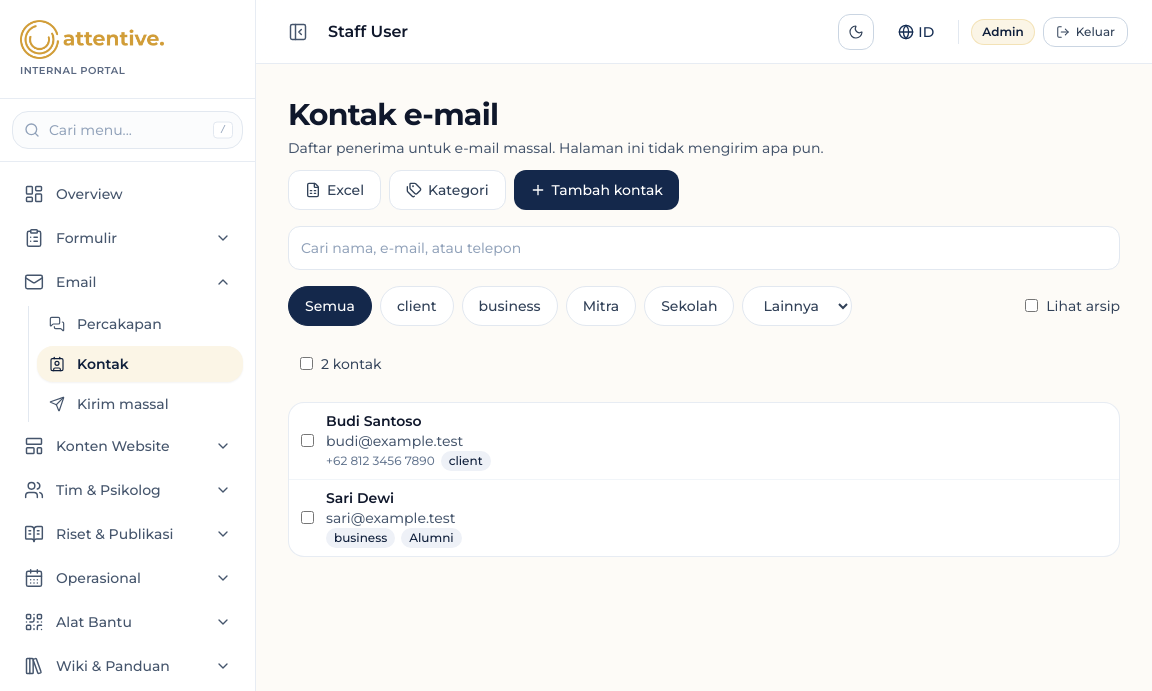
Test: e-mail contacts page › filters by chip, by the "more" list and by search
Click the button "business" at (510, 306), box left=462, top=286, right=558, bottom=326
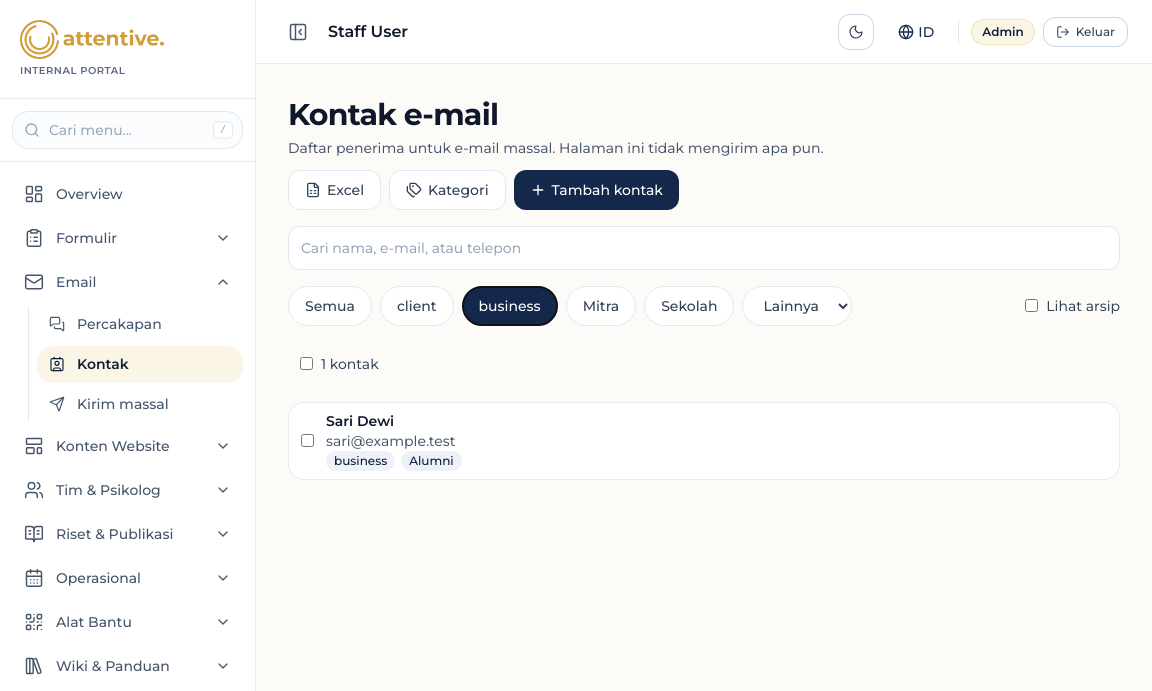
Expected: the text "Sari Dewi" is shown, left=326, top=412, right=394, bottom=430
Now the text "Budi Santoso" is gone
Select "Alumni" in the dropdown named "Kategori lainnya" at (798, 306), box left=742, top=286, right=852, bottom=326
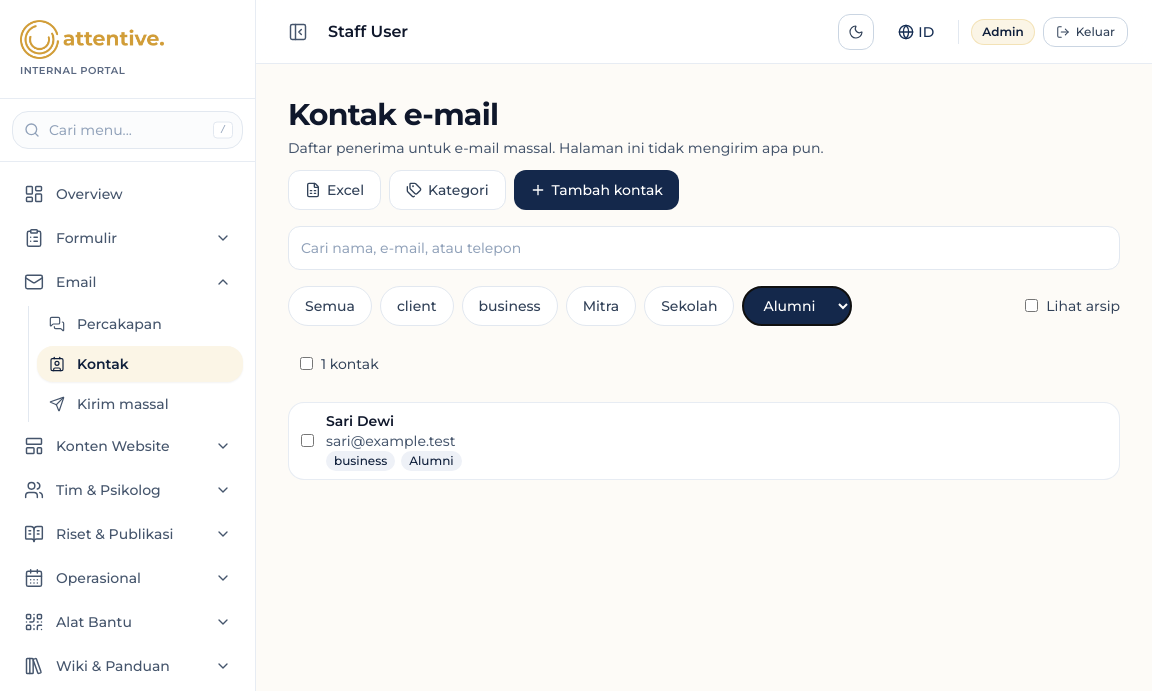
Expected: the text "Sari Dewi" is shown, left=326, top=412, right=394, bottom=430
Click the button "Semua" at (330, 306), box left=288, top=286, right=372, bottom=326
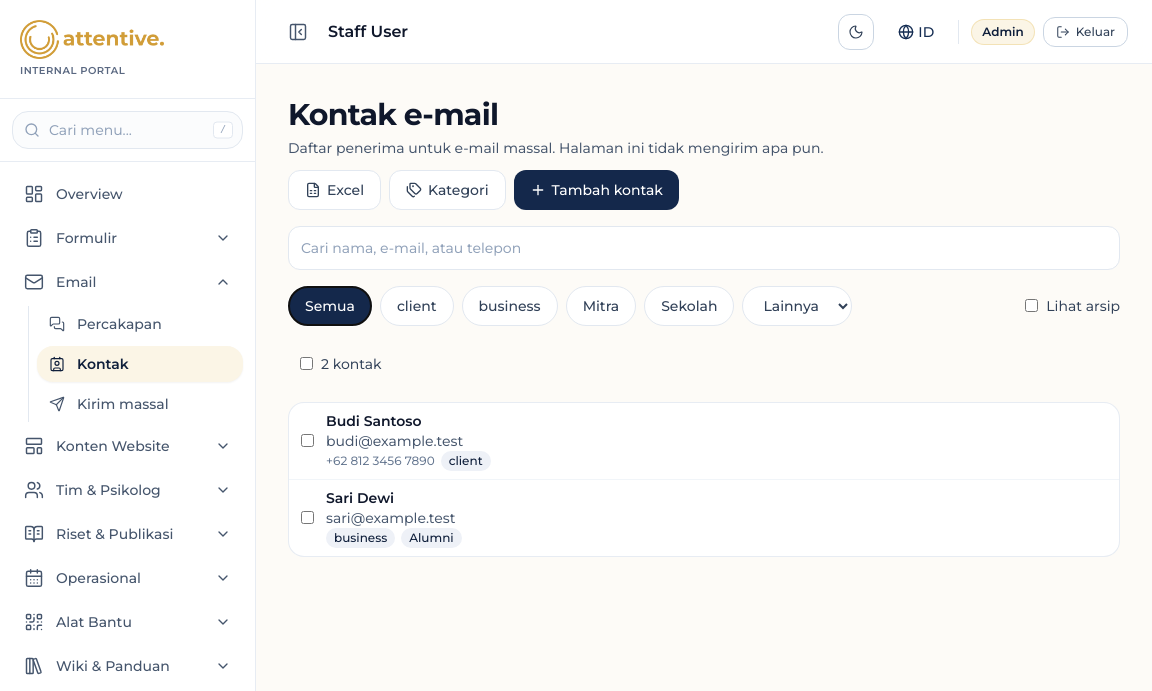
Type "0812345" into the search field named "Cari kontak" at (704, 248), box left=288, top=226, right=1120, bottom=270
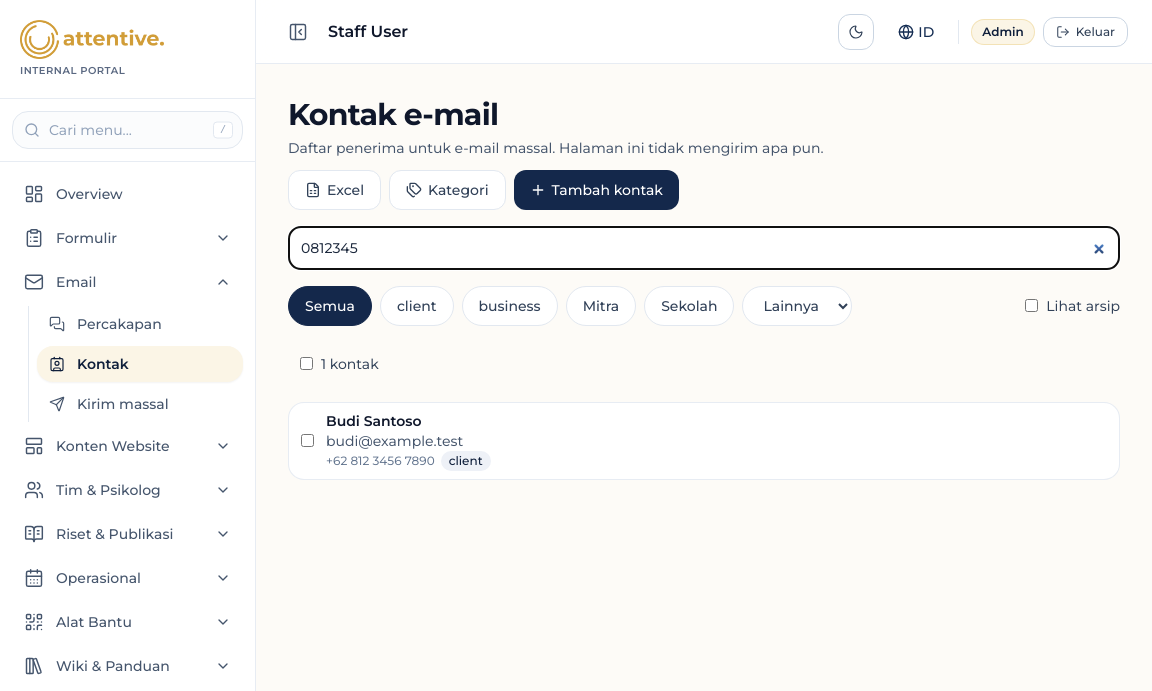
Now the text "Budi Santoso" is shown, box left=326, top=412, right=422, bottom=430
Now the text "Sari Dewi" is gone
